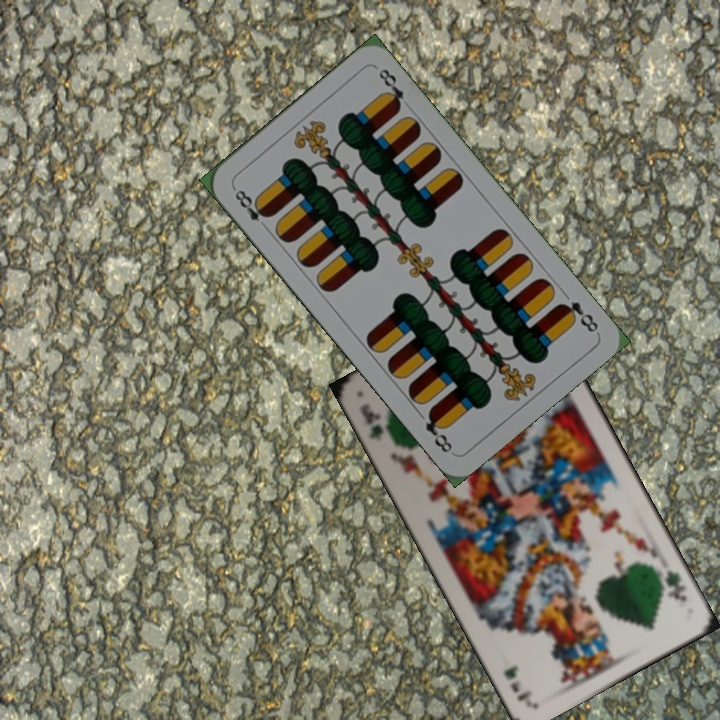E8: (229, 183, 273, 233), (554, 297, 601, 336)
GK: (356, 400, 386, 444), (662, 566, 690, 604)
